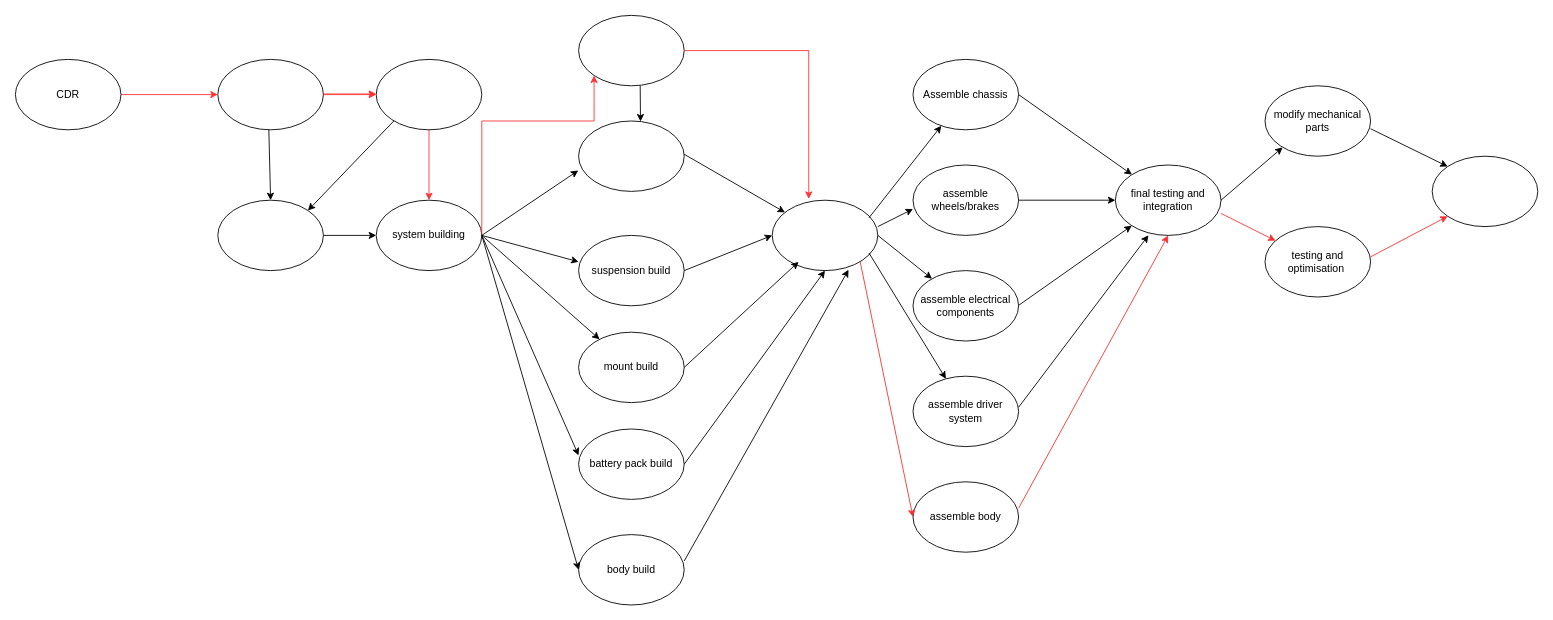
Image size: 1553x620. Some labels were removed from this diagram. The shapes that lost their labels are listed below. From the top down, each one's centre as x and y in pixels, then its label:
At (x=631, y=50): "chassis build".
At (x=270, y=94): "part acquisition".
At (x=428, y=94): "Basic part orders".
At (x=631, y=155): "chassis paint".
At (x=1484, y=191): "final product".
At (x=270, y=235): "part time lead".
At (x=824, y=235): "assembly".
